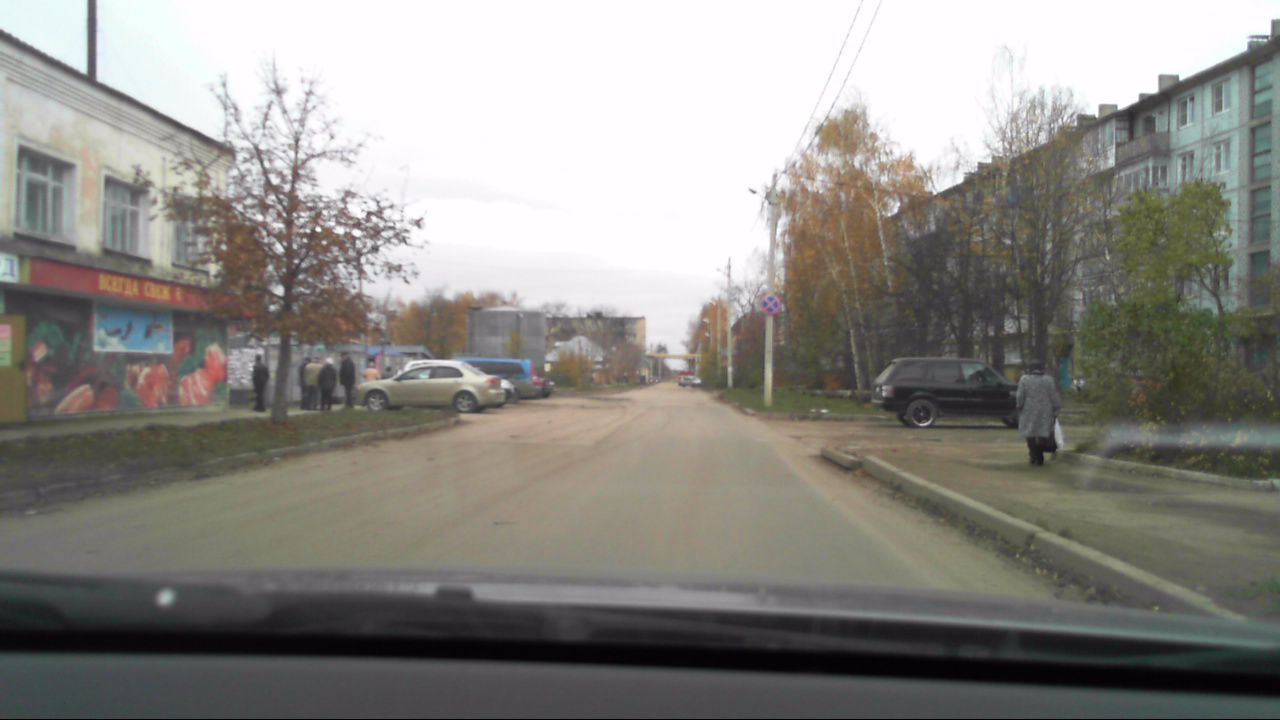No Parking: (759, 294, 780, 314)
